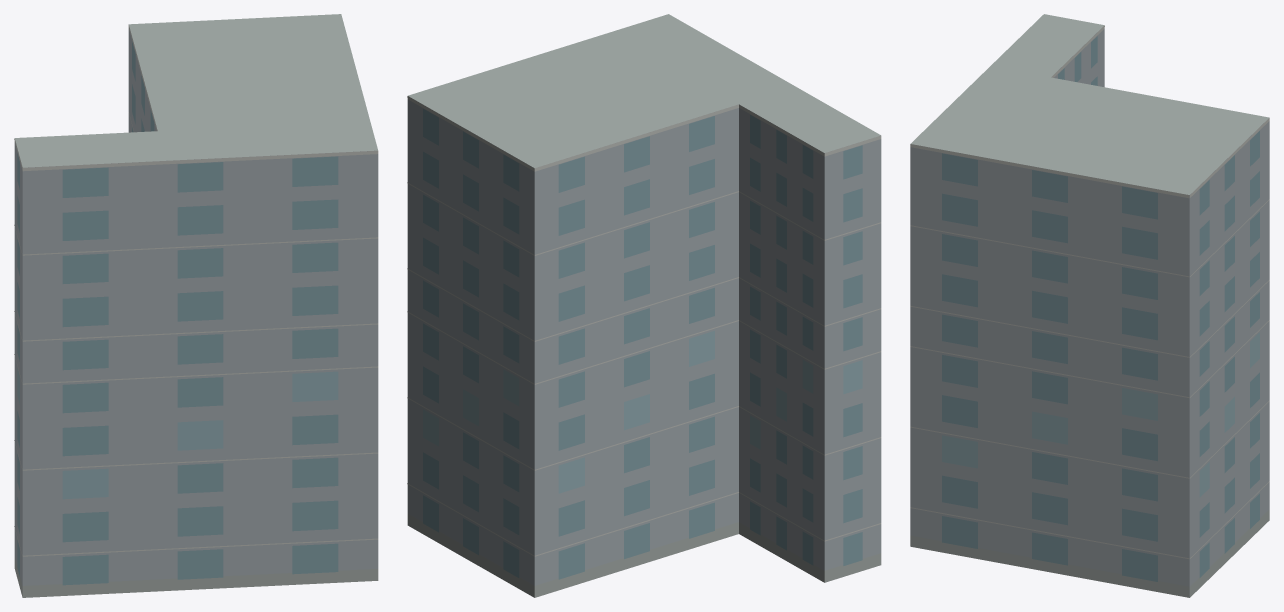
File: residential-2f07e38c-8b44-466a-a14c-687a629f2938.glb
The picture shows the model from 3 angles, left to right: view 1: azimuth 30°, elevation 25°; view 2: azimuth 150°, elevation 25°; view 3: azimuth 270°, elevation 25°; orthographic projection. The views are drawn at different scales.
Visible parts, largest first — view 1: residential-2f07e38c-8b44-466a-a14c-687a629f2938.tmp; view 2: residential-2f07e38c-8b44-466a-a14c-687a629f2938.tmp; view 3: residential-2f07e38c-8b44-466a-a14c-687a629f2938.tmp.
Boxes of the visible parts, x1,y1,x2,y2 form: residential-2f07e38c-8b44-466a-a14c-687a629f2938.tmp: (14, 14, 378, 597); residential-2f07e38c-8b44-466a-a14c-687a629f2938.tmp: (407, 14, 881, 597); residential-2f07e38c-8b44-466a-a14c-687a629f2938.tmp: (910, 14, 1269, 597).
Bounding box in the file's own units: 28.96 × 30 × 24.27.
